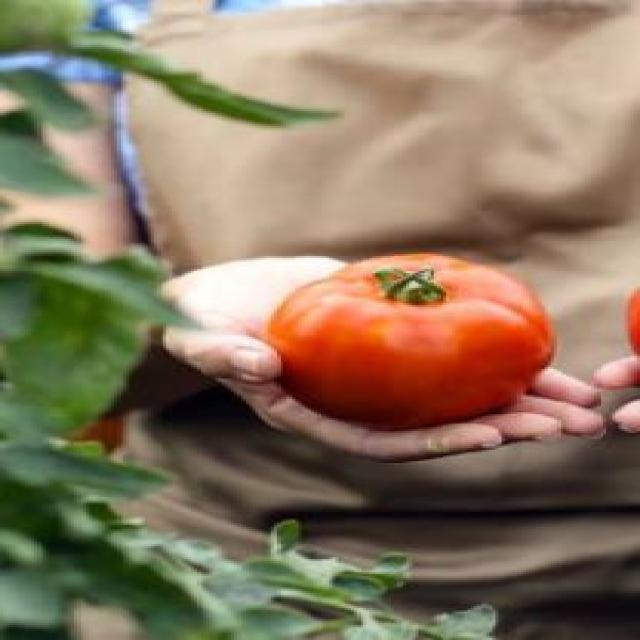Healthy: (273, 237, 594, 443)
